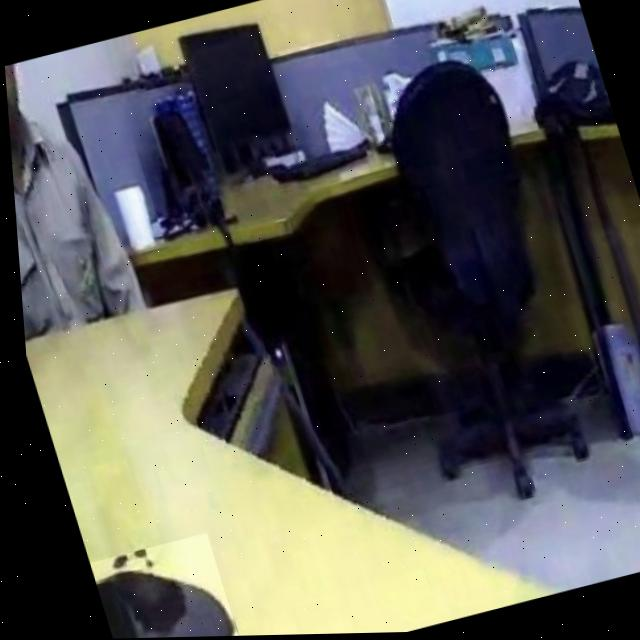spillage: (87, 554, 225, 639)
